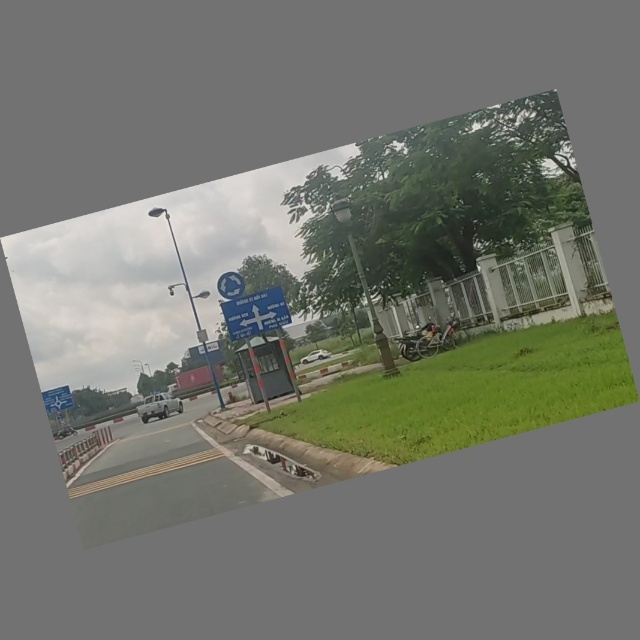R.303: (212, 268, 248, 302)
